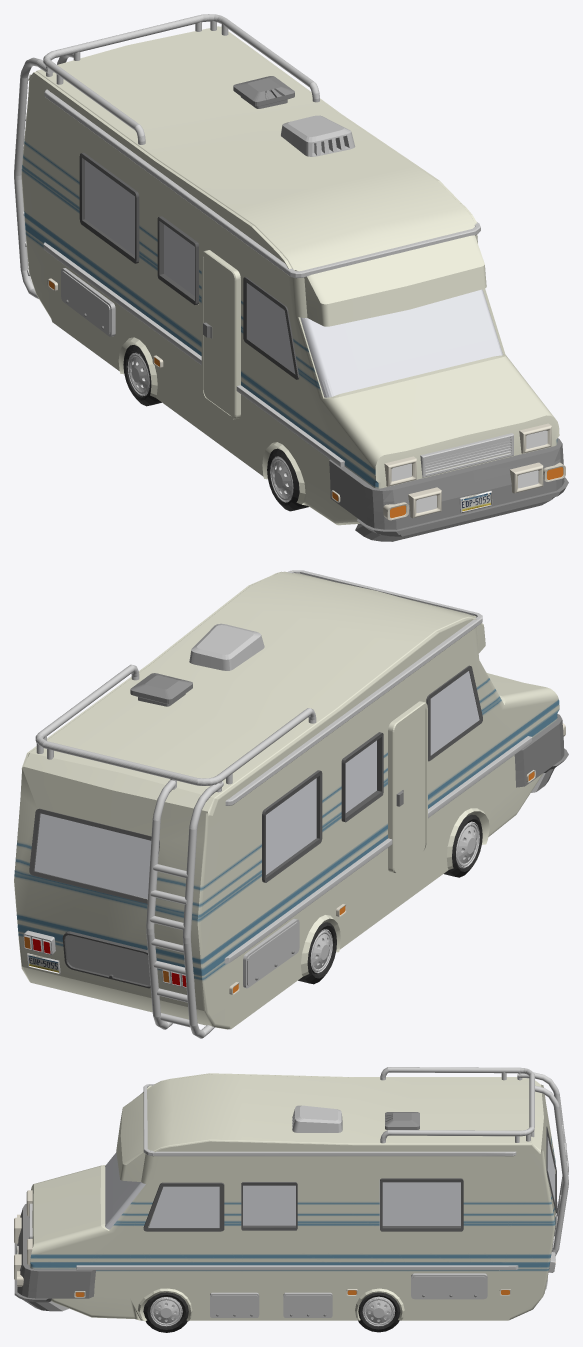
The model's file is TestVan3_Cleanup.fbx.
3 renders of one model, top to bottom at view 1: azimuth 30°, elevation 25°; view 2: azimuth 150°, elevation 25°; view 3: azimuth 270°, elevation 25°, orthographic. The views are drawn at different scales.
Visible parts, largest first — view 1: polySurface33, polySurface111, polySurface62, polySurface53, polySurface25, polySurface74, polySurface84, polySurface75, polySurface64, polySurface44, polySurface93, polySurface85 (+10 smaller); view 2: polySurface33, polySurface56, polySurface53, polySurface74, polySurface25, polySurface77, polySurface84, polySurface75, polySurface64, polySurface44, polySurface85, polySurface62 (+12 smaller); view 3: polySurface33, polySurface27, polySurface62, polySurface26, polySurface13, polySurface25, polySurface74, polySurface60, polySurface45, polySurface111, polySurface44, polySurface57 (+12 smaller).
Boxes of the visible parts, bbox=[...] form: polySurface33: bbox=[21, 26, 559, 525]; polySurface111: bbox=[300, 289, 502, 397]; polySurface62: bbox=[329, 438, 568, 541]; polySurface53: bbox=[201, 250, 240, 419]; polySurface25: bbox=[44, 89, 480, 278]; polySurface74: bbox=[43, 14, 319, 144]; polySurface84: bbox=[85, 160, 134, 255]; polySurface75: bbox=[43, 242, 344, 467]; polySurface64: bbox=[247, 283, 295, 373]; polySurface44: bbox=[281, 115, 355, 156]; polySurface93: bbox=[420, 433, 513, 477]; polySurface85: bbox=[14, 57, 53, 298]; polySurface33: bbox=[14, 571, 559, 1029]; polySurface56: bbox=[34, 813, 151, 898]; polySurface53: bbox=[388, 701, 427, 872]; polySurface74: bbox=[35, 664, 316, 785]; polySurface25: bbox=[225, 570, 482, 805]; polySurface77: bbox=[62, 931, 150, 988]; polySurface84: bbox=[266, 778, 316, 874]; polySurface75: bbox=[224, 736, 531, 963]; polySurface64: bbox=[430, 671, 479, 755]; polySurface44: bbox=[189, 623, 264, 670]; polySurface85: bbox=[182, 781, 223, 1038]; polySurface62: bbox=[514, 714, 568, 792]; polySurface33: bbox=[29, 1073, 555, 1321]; polySurface27: bbox=[379, 1180, 460, 1228]; polySurface62: bbox=[14, 1204, 95, 1311]; polySurface26: bbox=[148, 1186, 219, 1227]; polySurface13: bbox=[76, 1265, 518, 1270]; polySurface25: bbox=[143, 1084, 516, 1156]; polySurface74: bbox=[380, 1067, 534, 1143]; polySurface60: bbox=[243, 1185, 295, 1225]; polySurface45: bbox=[411, 1273, 487, 1299]; polySurface111: bbox=[105, 1152, 145, 1229]; polySurface44: bbox=[292, 1105, 342, 1132]; polySurface57: bbox=[283, 1292, 332, 1317].
Size of the model in its own units: 3318 by 4386 by 10787.
12 materials, 2 textured.
